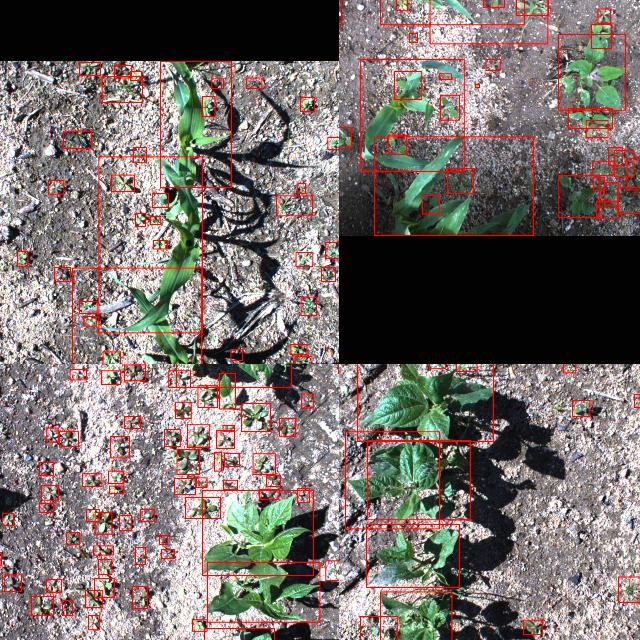crop: (98, 156, 202, 332), (374, 137, 534, 236), (72, 267, 202, 364), (361, 59, 464, 171), (357, 364, 493, 440), (202, 489, 314, 575), (160, 60, 232, 186), (346, 432, 440, 528), (368, 439, 470, 519), (208, 562, 320, 622), (366, 524, 459, 586), (430, 0, 548, 43), (380, 591, 451, 640), (380, 0, 524, 24), (176, 364, 291, 386), (204, 628, 274, 640), (219, 372, 235, 408)
weed: (558, 34, 626, 110), (558, 175, 600, 217), (102, 75, 142, 101), (360, 615, 398, 640), (568, 108, 612, 128), (394, 70, 422, 100), (242, 403, 270, 431), (276, 195, 312, 215), (186, 497, 220, 518), (447, 168, 473, 194), (617, 187, 640, 213), (177, 448, 200, 474), (618, 576, 640, 602), (614, 150, 634, 177), (440, 94, 460, 120), (63, 130, 91, 148), (188, 424, 210, 446), (516, 0, 548, 15), (591, 24, 611, 48), (31, 596, 53, 616), (198, 385, 218, 407), (253, 453, 275, 473), (627, 158, 640, 189), (94, 578, 114, 598), (110, 436, 130, 456), (586, 120, 608, 138), (596, 200, 618, 218), (388, 134, 407, 154), (95, 512, 112, 534), (169, 369, 191, 386), (112, 174, 134, 190), (132, 586, 148, 608), (174, 478, 196, 494), (124, 364, 146, 380), (422, 194, 440, 213), (216, 430, 234, 448), (604, 182, 618, 205), (301, 296, 317, 316), (2, 575, 22, 591), (592, 161, 614, 175), (86, 590, 102, 608), (164, 428, 180, 446), (280, 417, 296, 435), (60, 430, 78, 446), (572, 400, 590, 416), (80, 61, 100, 75), (82, 472, 102, 486), (101, 370, 121, 384), (325, 560, 339, 580), (175, 401, 191, 417), (42, 484, 58, 500), (609, 147, 623, 165), (524, 620, 542, 634), (202, 96, 214, 116), (325, 241, 339, 258), (339, 127, 351, 146), (48, 180, 64, 194), (55, 267, 71, 281), (152, 193, 168, 207), (133, 146, 147, 162), (321, 266, 335, 282), (296, 252, 312, 266), (98, 558, 112, 574), (46, 578, 62, 592), (224, 452, 240, 466), (38, 461, 54, 475), (79, 301, 97, 313), (103, 352, 121, 364), (115, 64, 132, 76), (259, 489, 279, 499), (300, 96, 314, 110), (88, 614, 100, 630), (124, 416, 140, 428), (108, 470, 124, 482), (598, 8, 610, 22), (86, 509, 100, 521), (120, 516, 132, 530), (66, 532, 80, 544), (267, 474, 281, 486), (140, 509, 154, 521), (301, 393, 313, 407), (46, 427, 58, 441), (297, 488, 309, 502), (18, 250, 28, 266), (246, 77, 262, 87), (290, 344, 306, 354), (93, 546, 113, 554), (135, 548, 145, 564), (38, 502, 54, 512), (62, 600, 72, 616), (192, 620, 208, 630), (70, 369, 86, 379), (327, 136, 339, 149), (486, 59, 500, 70), (214, 452, 222, 471), (593, 178, 605, 190), (2, 513, 14, 525), (223, 479, 237, 489), (294, 356, 311, 364), (136, 212, 146, 225), (108, 485, 124, 493), (483, 0, 504, 6), (130, 70, 142, 80), (84, 316, 96, 326), (231, 350, 243, 360), (212, 78, 224, 88), (196, 477, 208, 487), (457, 364, 477, 370), (153, 240, 167, 248), (396, 0, 407, 10), (162, 550, 174, 558), (562, 364, 575, 371), (150, 216, 160, 224), (298, 182, 306, 192), (409, 32, 417, 42), (160, 534, 168, 544), (634, 393, 640, 406), (439, 73, 451, 79), (223, 424, 235, 430), (429, 364, 445, 368), (475, 83, 479, 87)
